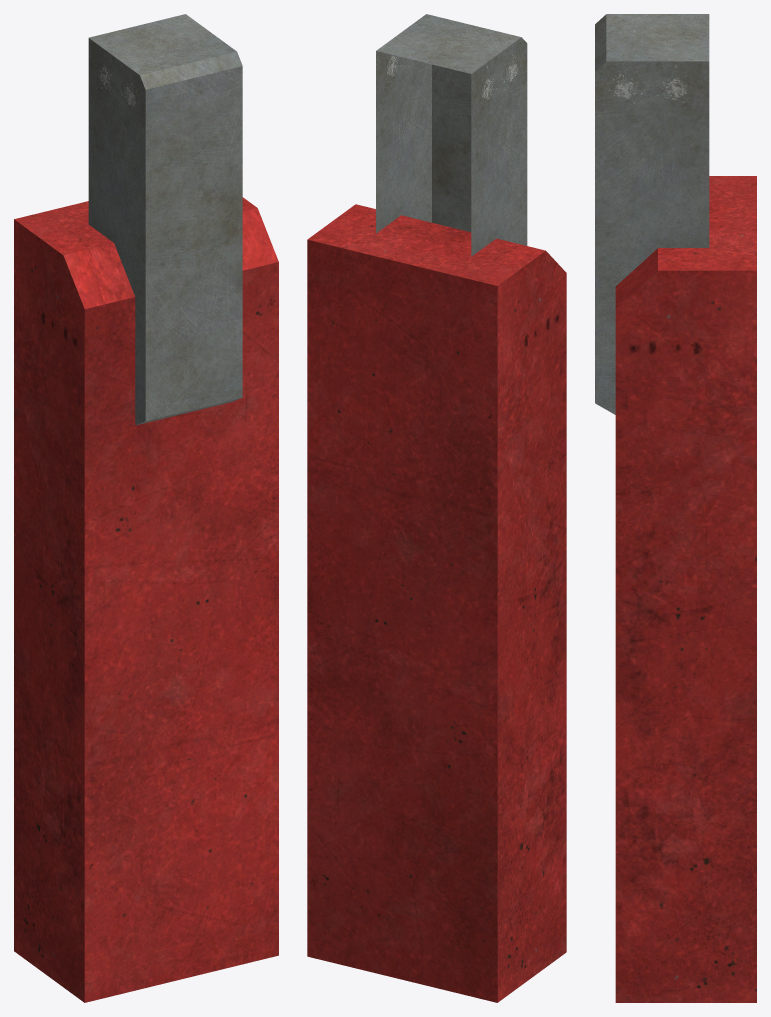
The model's file is Ob_ScafDetail2Connector_RC.fbx.
The picture shows the model from 3 angles, left to right: view 1: azimuth 30°, elevation 25°; view 2: azimuth 150°, elevation 25°; view 3: azimuth 270°, elevation 25°; orthographic projection. The views are drawn at different scales.
Visible parts, largest first — view 1: Ob_ScafDetail2Connector_RC; view 2: Ob_ScafDetail2Connector_RC; view 3: Ob_ScafDetail2Connector_RC.
Boxes of the visible parts, box(x1,y1,x2,y2) form: Ob_ScafDetail2Connector_RC: box(14, 14, 278, 1002); Ob_ScafDetail2Connector_RC: box(307, 14, 566, 1002); Ob_ScafDetail2Connector_RC: box(595, 14, 756, 1002).
Size of the model in its own units: 473 by 2137 by 341.
